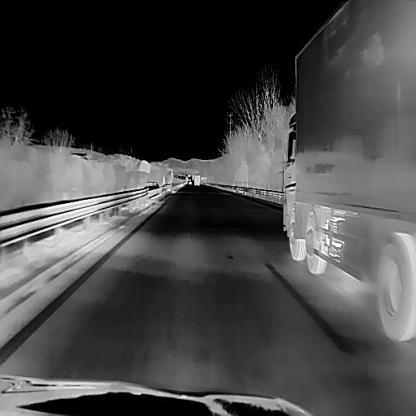car: (281, 0, 415, 339), (193, 173, 200, 185)
